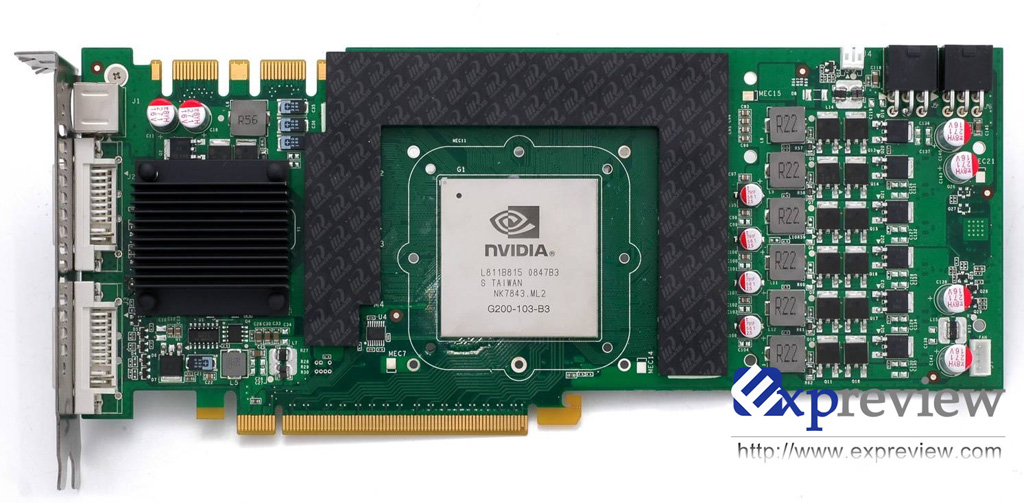Induktor: (229, 96, 268, 135), (768, 104, 806, 144), (767, 149, 805, 189), (768, 334, 807, 372), (768, 195, 805, 233), (768, 243, 806, 279), (768, 290, 805, 324), (222, 349, 249, 377)
